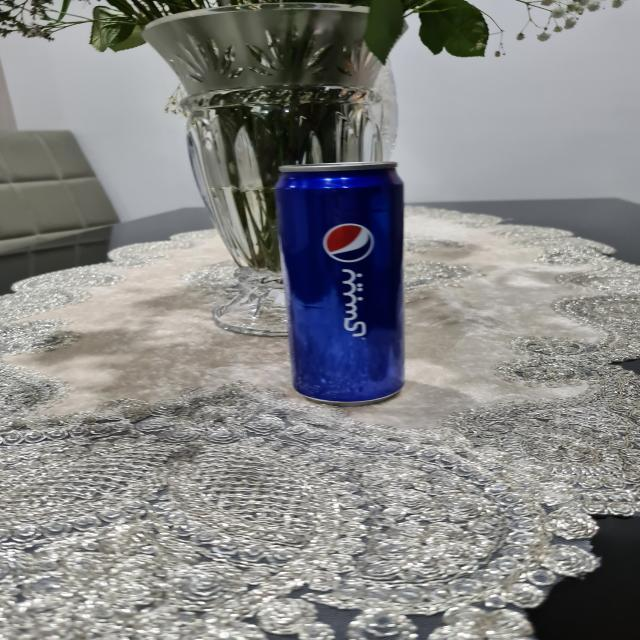can: (258, 159, 422, 410)
